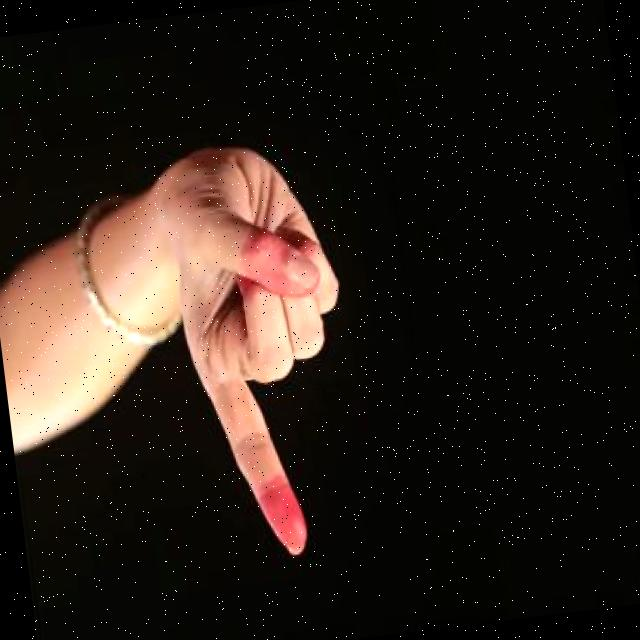Suchi: (128, 96, 386, 596)
